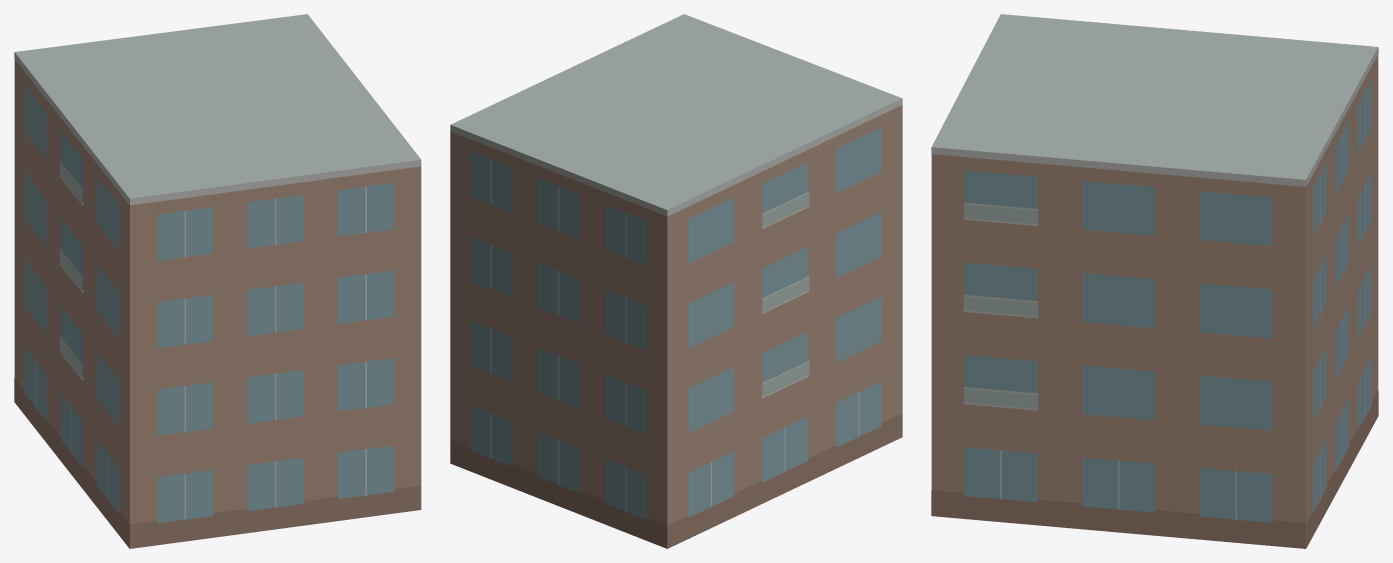
File: survey-upis-33044018.glb
3 renders of one model, left to right at view 1: azimuth 30°, elevation 25°; view 2: azimuth 150°, elevation 25°; view 3: azimuth 270°, elevation 25°, orthographic. The views are drawn at different scales.
Parts seen in each view (by area): view 1: survey-upis-33044018.tmp; view 2: survey-upis-33044018.tmp; view 3: survey-upis-33044018.tmp.
Boxes of the visible parts, x1,y1,x2,y2 form: survey-upis-33044018.tmp: [14, 14, 421, 548]; survey-upis-33044018.tmp: [450, 14, 902, 548]; survey-upis-33044018.tmp: [931, 14, 1378, 548].
Bounding box in the file's own units: 12.36 × 12.8 × 14.07.
